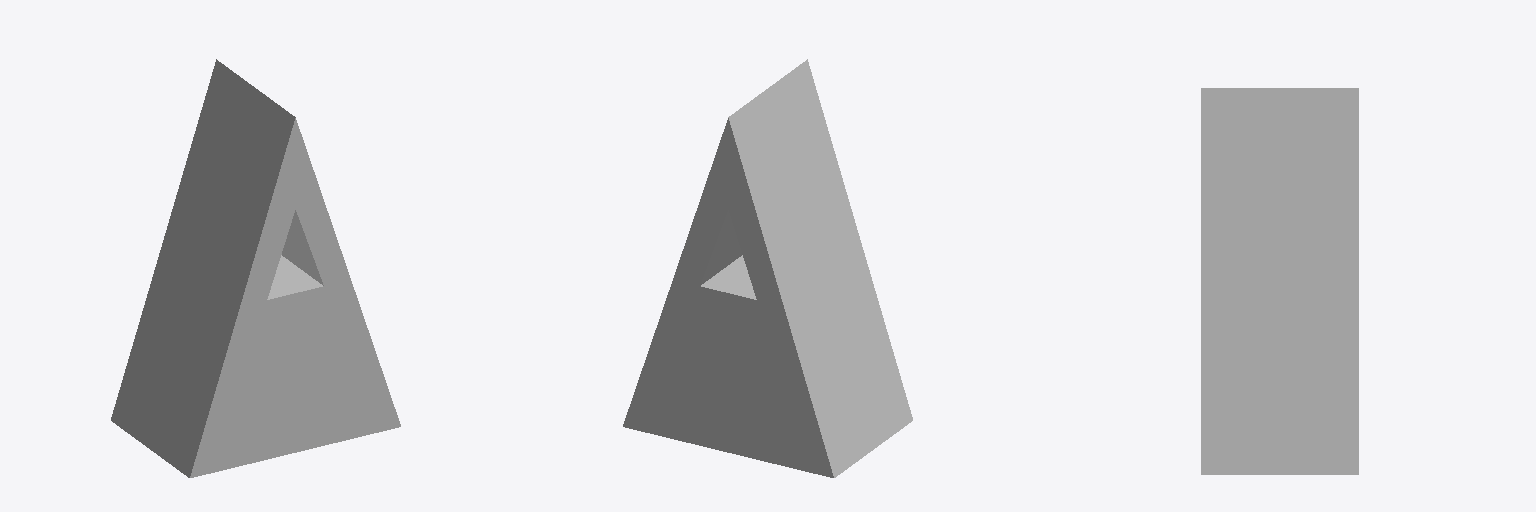
Rendered from medals_v1.obj.
The picture shows the model from 3 angles: view 1: azimuth 30°, elevation 25°; view 2: azimuth 150°, elevation 25°; view 3: azimuth 270°, elevation 25°; orthographic projection.
Visible parts, largest first — view 1: medals_obj_Plane.001; view 2: medals_obj_Plane.001; view 3: medals_obj_Plane.001.
Part boxes in pixels (x1,y1,x2,y2): medals_obj_Plane.001: (111, 59, 400, 477); medals_obj_Plane.001: (623, 59, 912, 477); medals_obj_Plane.001: (1201, 88, 1358, 474).
Bounding box in the file's own units: 3.08 × 4.66 × 1.99.